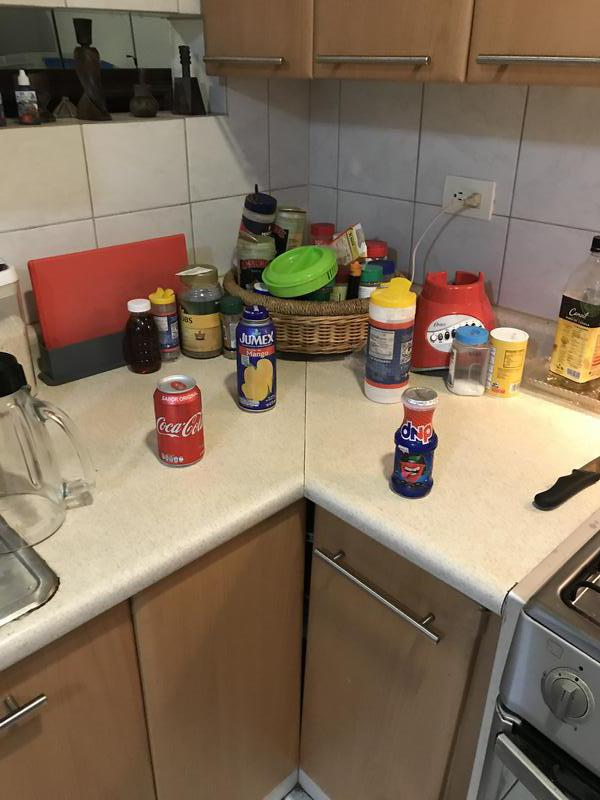coca_cola: (152, 374, 210, 469)
danup: (392, 385, 437, 499)
jugo_jumex: (232, 307, 279, 412)
